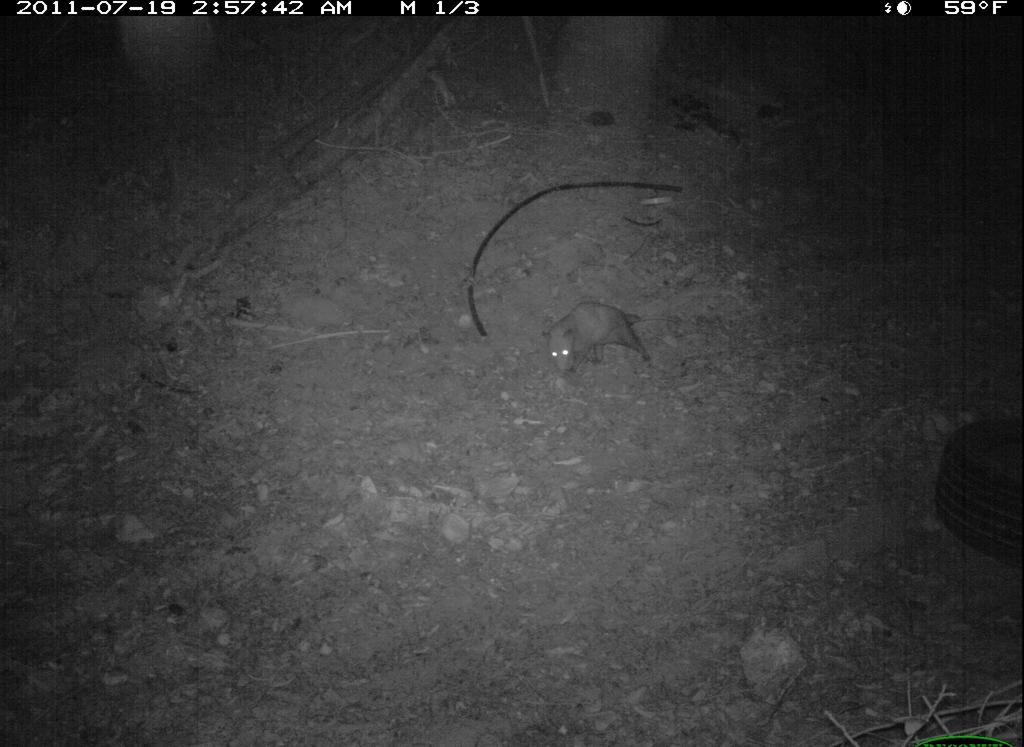opossum: (542, 297, 687, 381)
